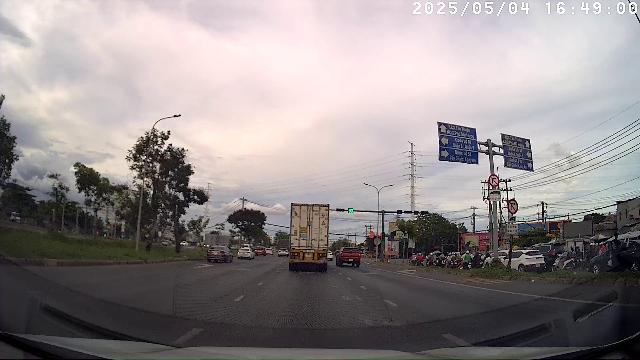123b-cam-re-phai: (507, 199, 518, 214), (488, 174, 499, 187)
